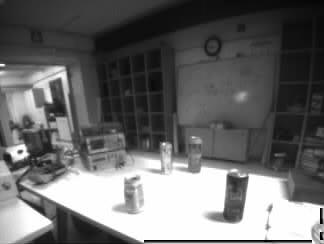Tin can: (224, 170, 247, 222), (124, 174, 144, 212), (187, 136, 202, 172), (160, 141, 172, 175)
